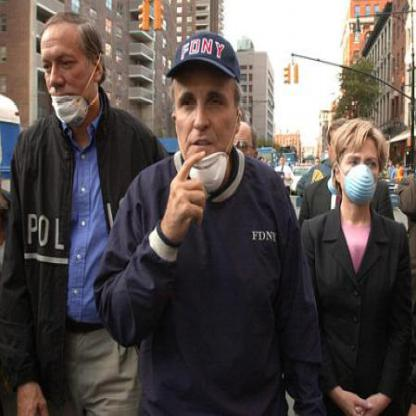face: (171, 44, 239, 172), (41, 14, 95, 121), (341, 126, 382, 206)
